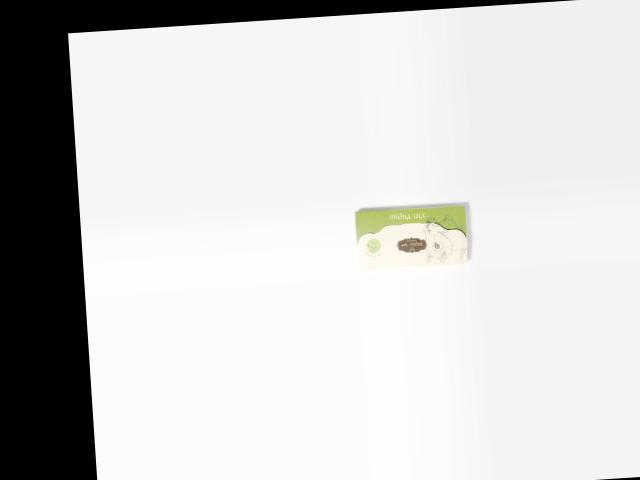chocolate: (353, 202, 470, 272)
